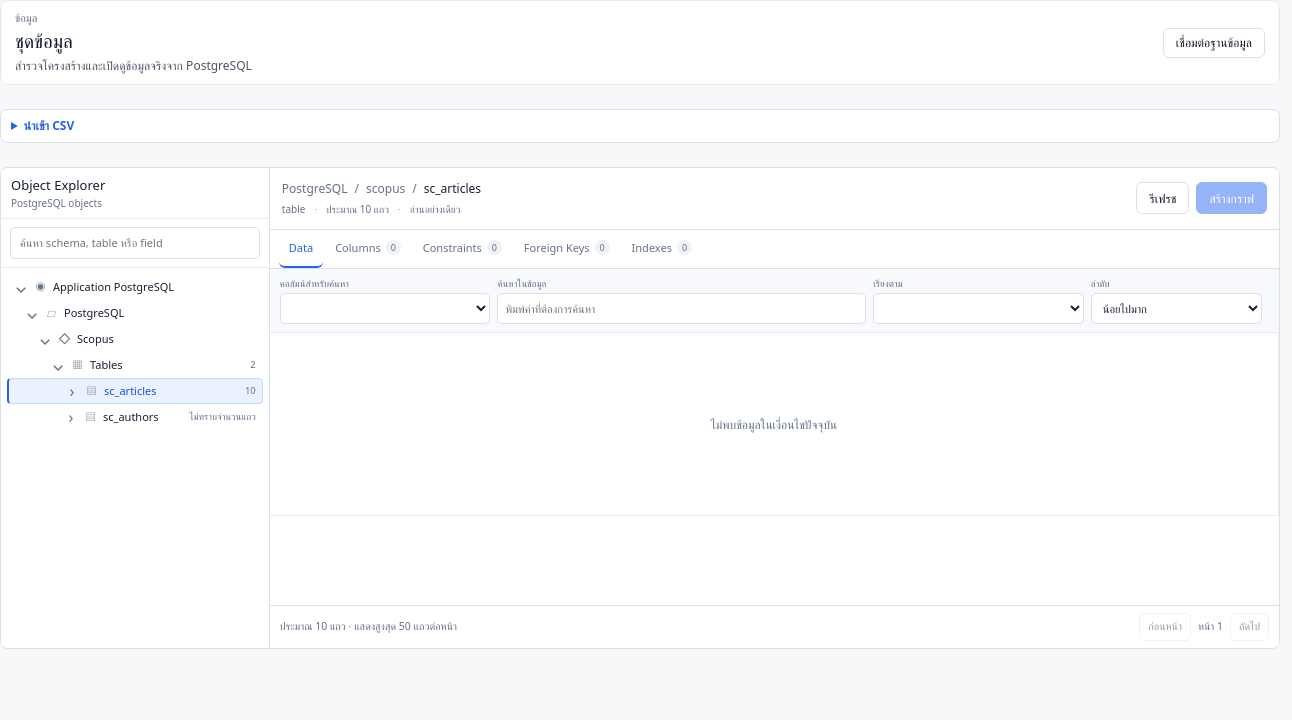
Scenario: DatasetsPage project ownership › lists every table in each allowed schema and selects one for live preview
This screenshot has width=1292, height=720.
Expected: the element named "Object Explorer" is shown, [7,274,263,430]
Expected: the button "› ▤ sc_articles 10" is shown, [7,378,263,404]
Click the button "› ▤ sc_authors ไม่ทราบจำนวนแถว" at coordinates (135, 417), box [7,404,263,430]
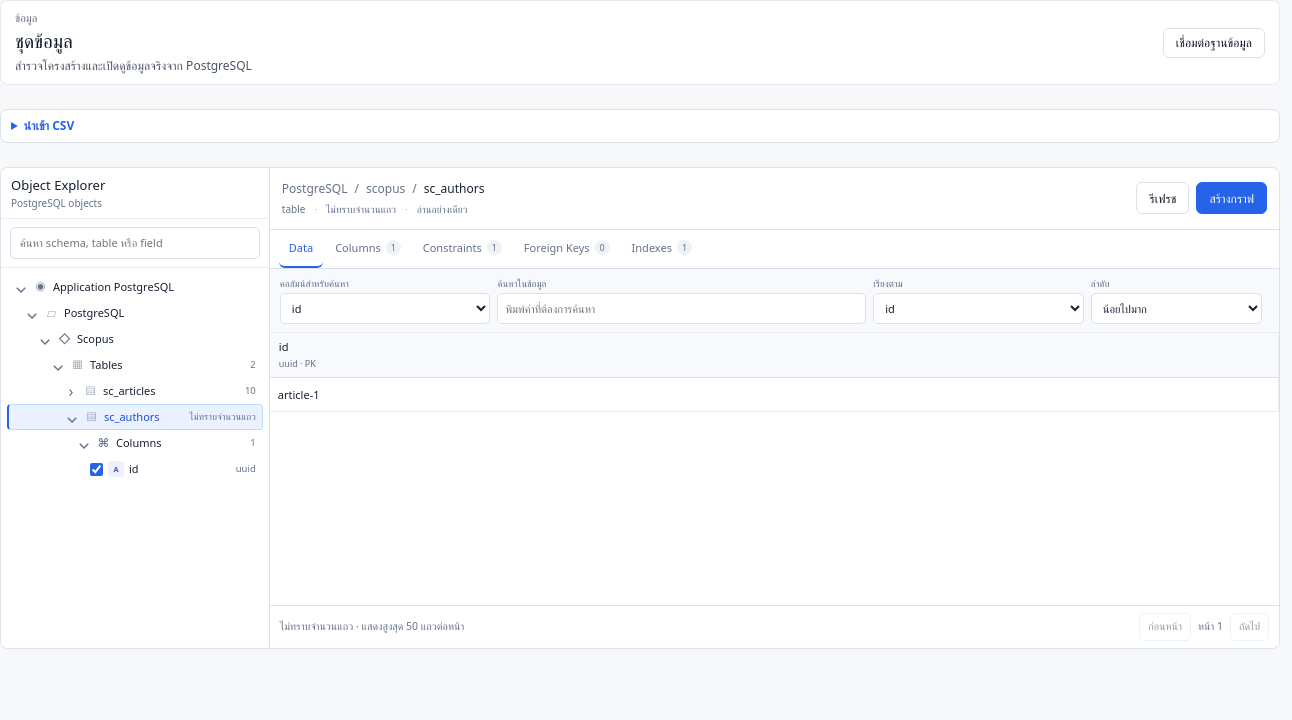
Expected: the dropdown labelled "คอลัมน์สำหรับค้นหา" shows "id", [280,294,490,324]
